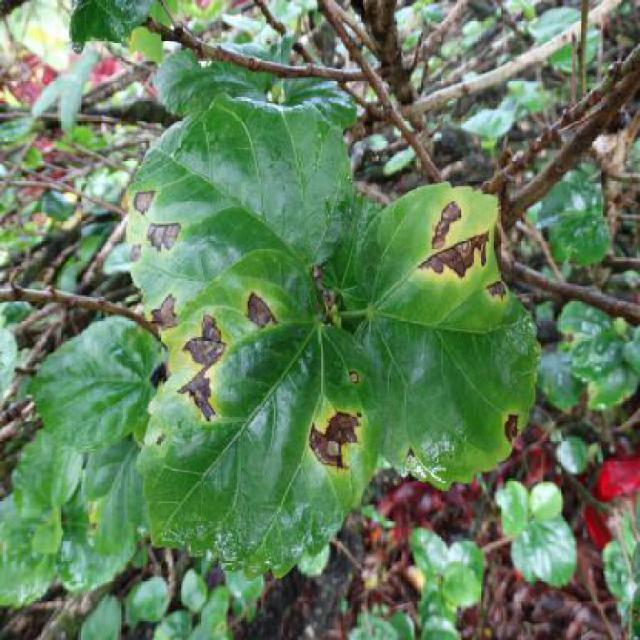Tomato Septoria spot leaf: (135, 263, 383, 577), (357, 178, 548, 480)
